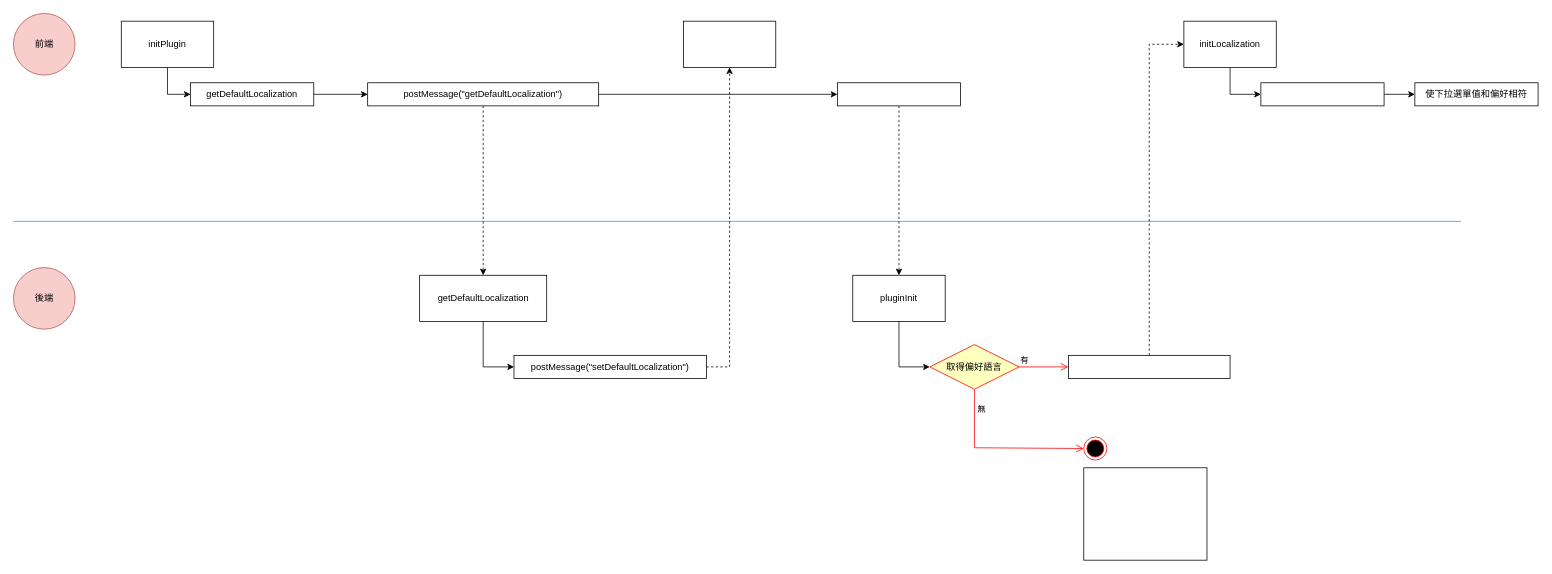
This 1552x574 diagram has some shape labels left out. Here are the shapes that lost their labels. From the top down, the box of each, then its label:
(683, 20, 776, 67): 設定預設翻譯
(837, 82, 961, 106): postMessage("init")
(1260, 82, 1384, 106): updateLocalization
(1068, 355, 1230, 378): postMessage("initLocalization")
(1083, 467, 1207, 560): 備註 系統預設的語言為英文，所以沒有偏好語言時，直接顯示的就是英文
